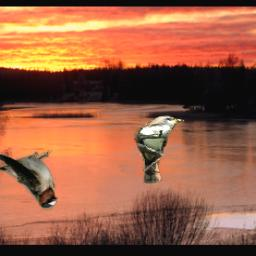Cuckoo: (134, 116, 184, 184)
Swallow: (0, 151, 58, 211)
